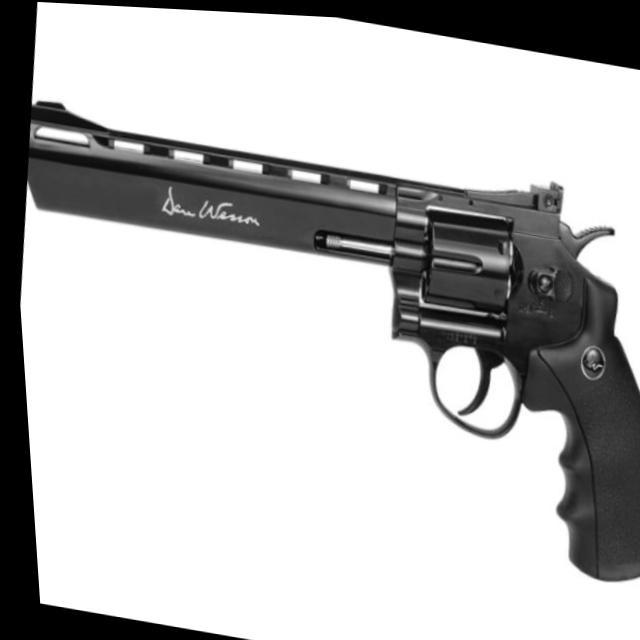weapon: (5, 87, 640, 582)
